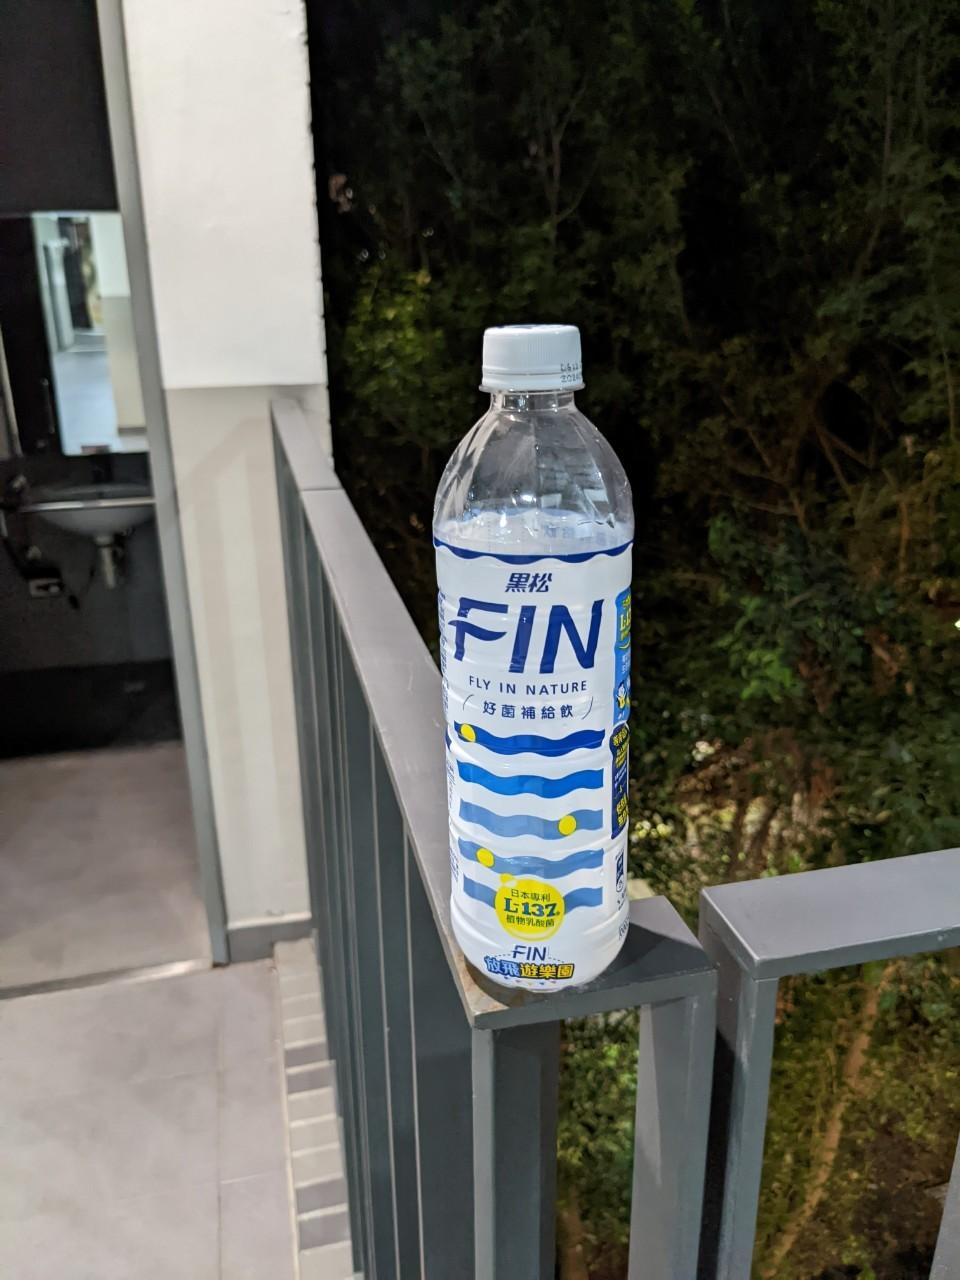BIODEGRADABLE: (418, 292, 658, 1008)
